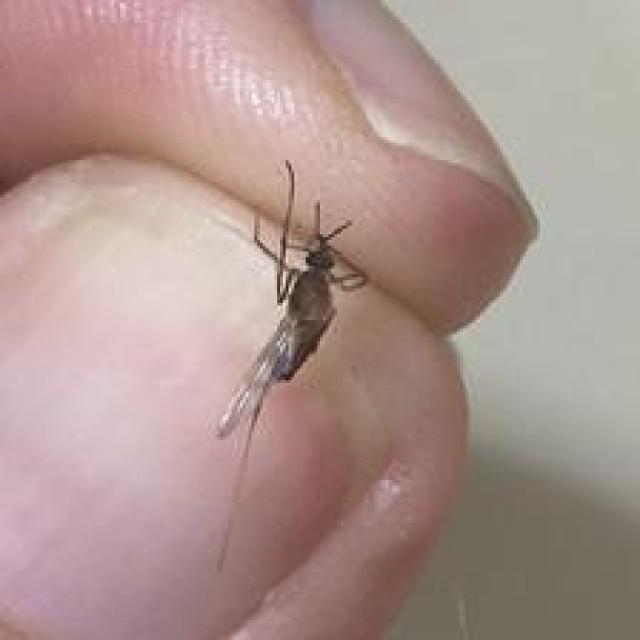Culex: (210, 157, 370, 572)
